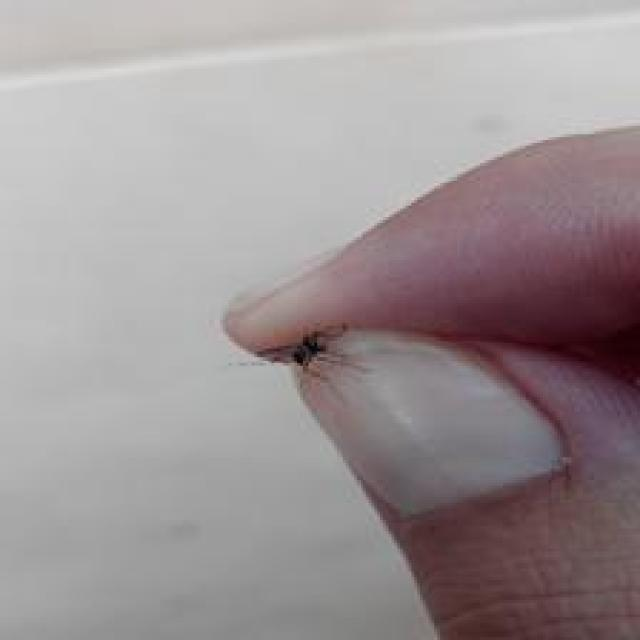Aedes albopictus: (248, 320, 366, 383)
